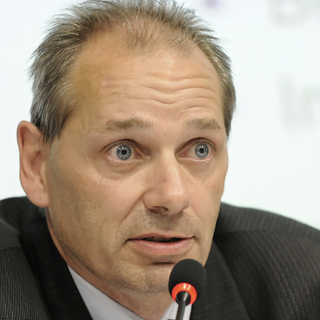eye: (99, 135, 151, 166), (172, 135, 220, 164)
